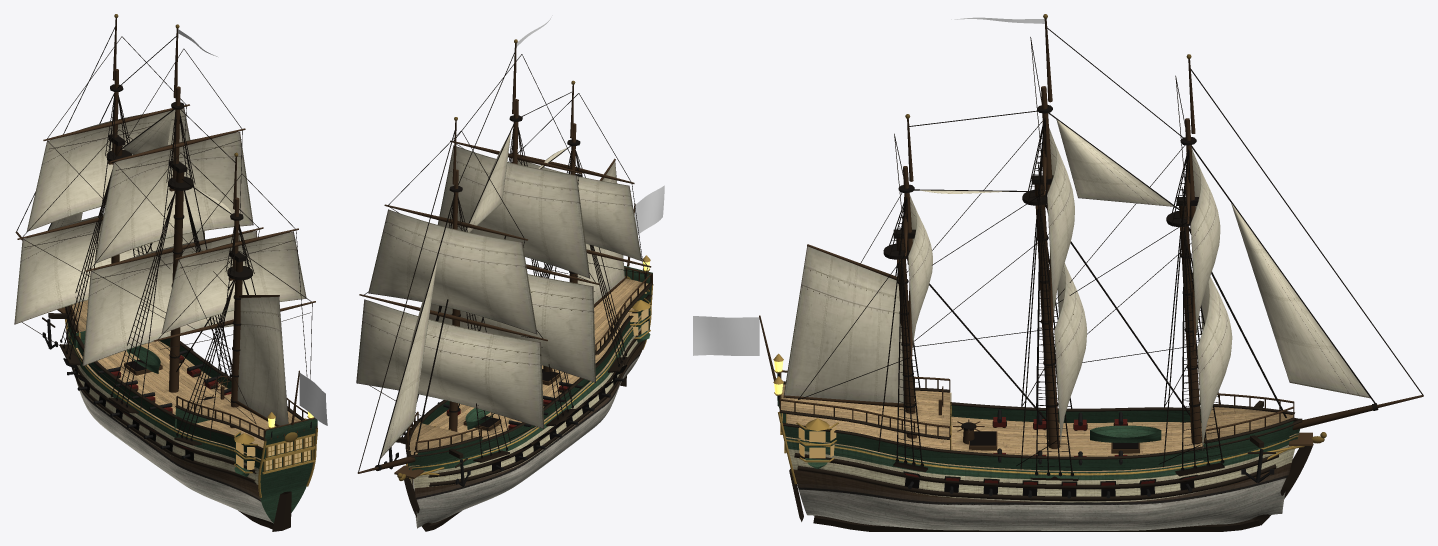
The model's file is barque.gltf.
3 views of the same model, side by side, from view 1: azimuth 30°, elevation 25°; view 2: azimuth 150°, elevation 25°; view 3: azimuth 270°, elevation 25° (orthographic). The views are drawn at different scales.
Parts seen in each view (by area): view 1: Hull, Sail_1_1, Sail_1_0_E, Sail_2_1, Sail_0_1, Sail_0_0_E, Sail_spanker, Sail_stay_1, Flag; view 2: Hull, Sail_0_0_E, Sail_0_1, Sail_1_1, Sail_1_0_E, Sail_2_1, Sail_jib_0, Sail_spanker, Sail_stay_1, Flag; view 3: Hull, Sail_spanker, Sail_jib_0, Sail_stay_1, Sail_0_0_E, Sail_1_0_E, Sail_0_1, Sail_1_1, Flag, Sail_2_1.
Part boxes in pixels (x1,y1,x2,y2): Hull: (15, 14, 317, 531); Sail_1_1: (94, 132, 253, 263); Sail_1_0_E: (82, 231, 257, 365); Sail_2_1: (161, 231, 306, 333); Sail_0_1: (26, 108, 190, 231); Sail_0_0_E: (14, 214, 204, 324); Sail_spanker: (237, 296, 288, 425); Sail_stay_1: (123, 111, 172, 154); Flag: (299, 373, 327, 425); Hull: (357, 39, 653, 531); Sail_0_0_E: (356, 299, 544, 428); Sail_0_1: (368, 209, 537, 334); Sail_1_1: (437, 145, 590, 278); Sail_1_0_E: (429, 274, 595, 382); Sail_2_1: (517, 160, 641, 261); Sail_jib_0: (380, 257, 437, 458); Sail_spanker: (577, 161, 624, 303); Sail_stay_1: (466, 131, 511, 232); Flag: (635, 185, 664, 234); Hull: (759, 14, 1423, 531); Sail_spanker: (784, 246, 903, 403); Sail_jib_0: (1231, 203, 1370, 398); Sail_stay_1: (1056, 119, 1173, 206); Sail_0_0_E: (1197, 276, 1232, 450); Sail_1_0_E: (1054, 263, 1087, 444); Sail_0_1: (1190, 148, 1220, 334); Sail_1_1: (1047, 128, 1074, 319); Flag: (693, 316, 759, 355); Sail_2_1: (908, 194, 932, 347).
Bounding box in the file's own units: 16.44 × 36.09 × 46.14.
18 materials, 4 textured.
